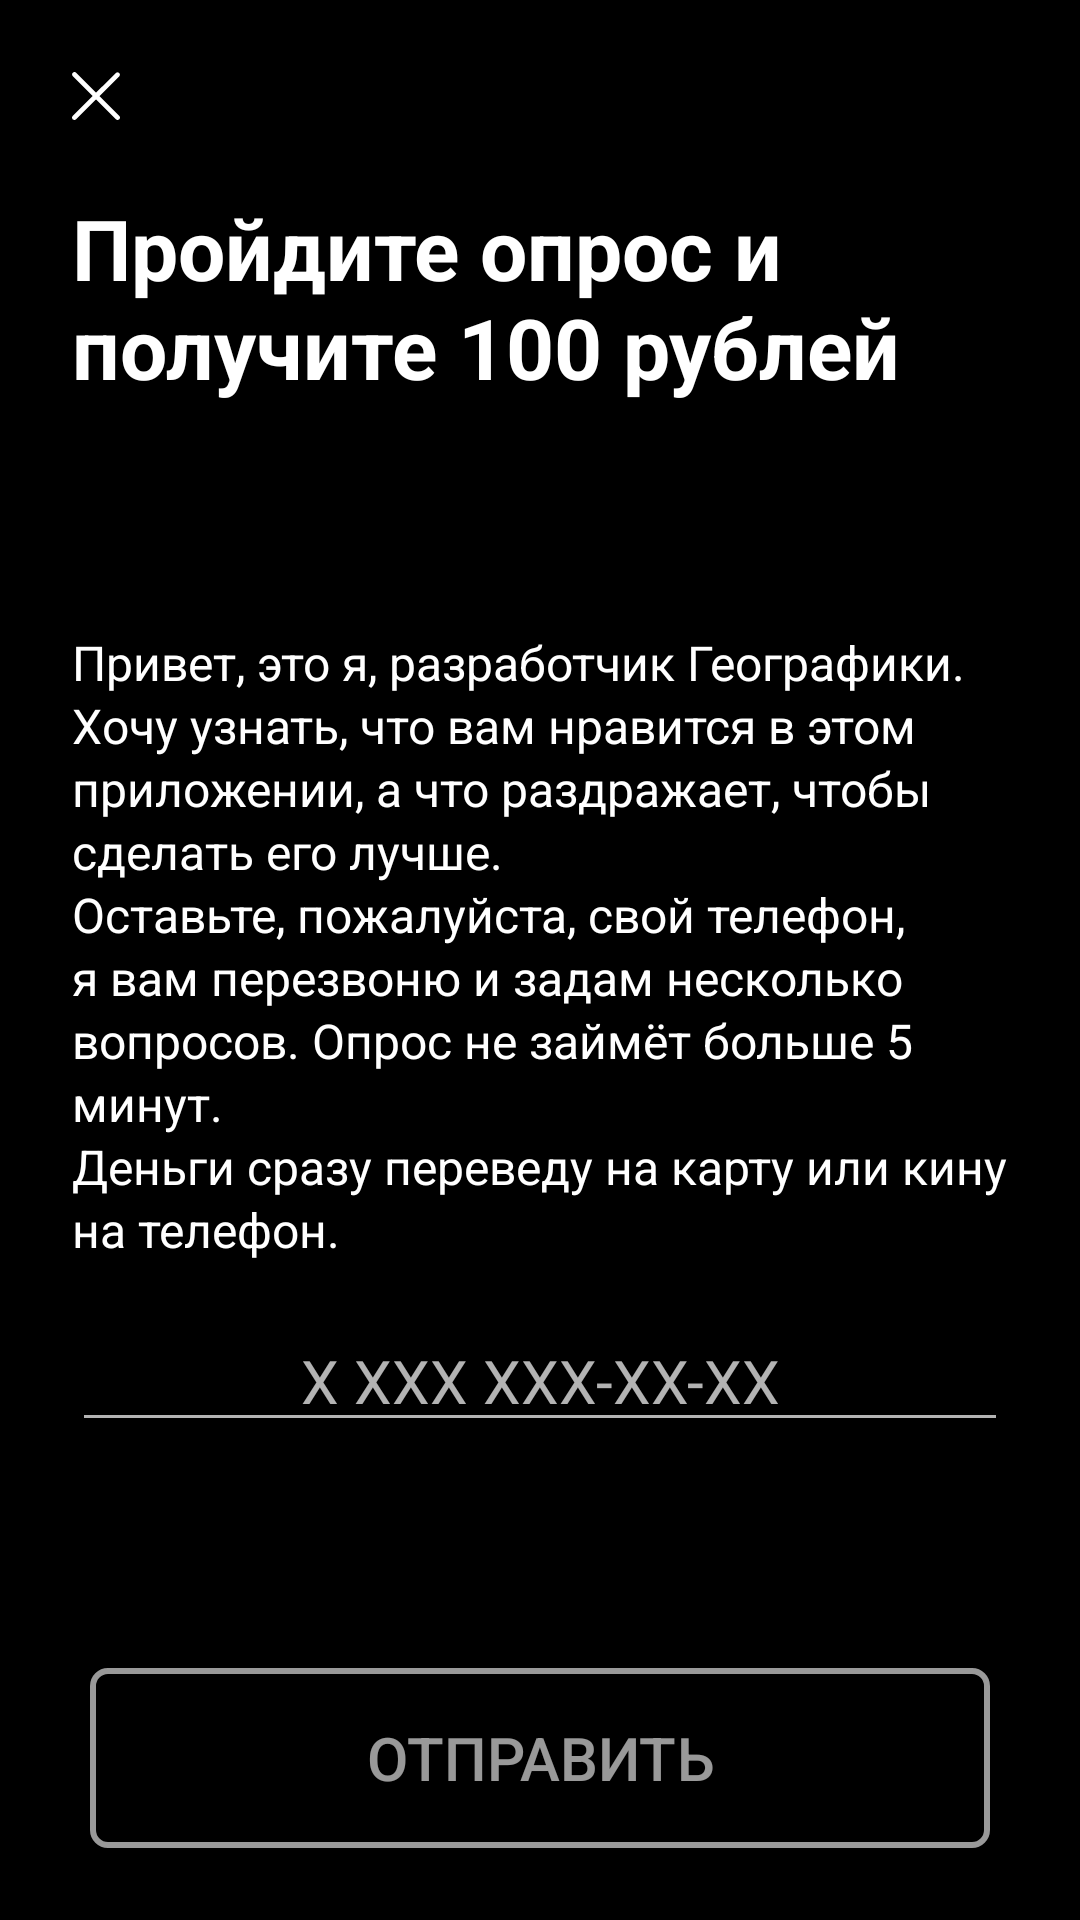

Icon click points for this 1080x1920 phone screenshot, format (x,y):
cross: (96,96)
